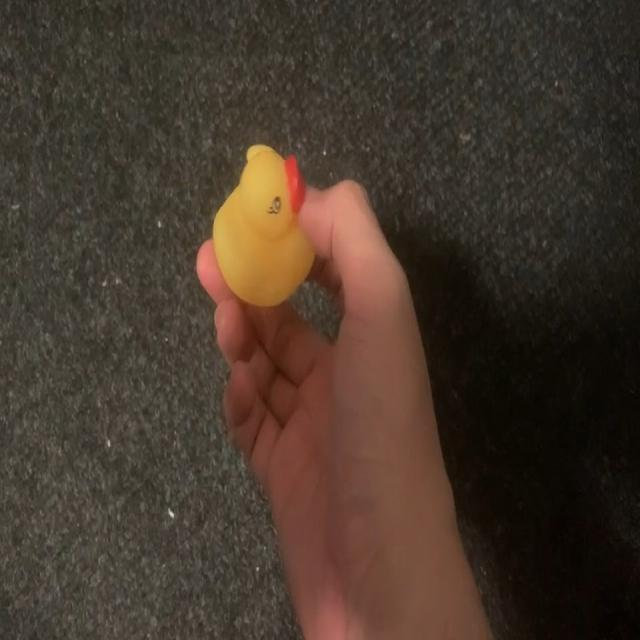rubber-duck: (212, 144, 312, 304)
